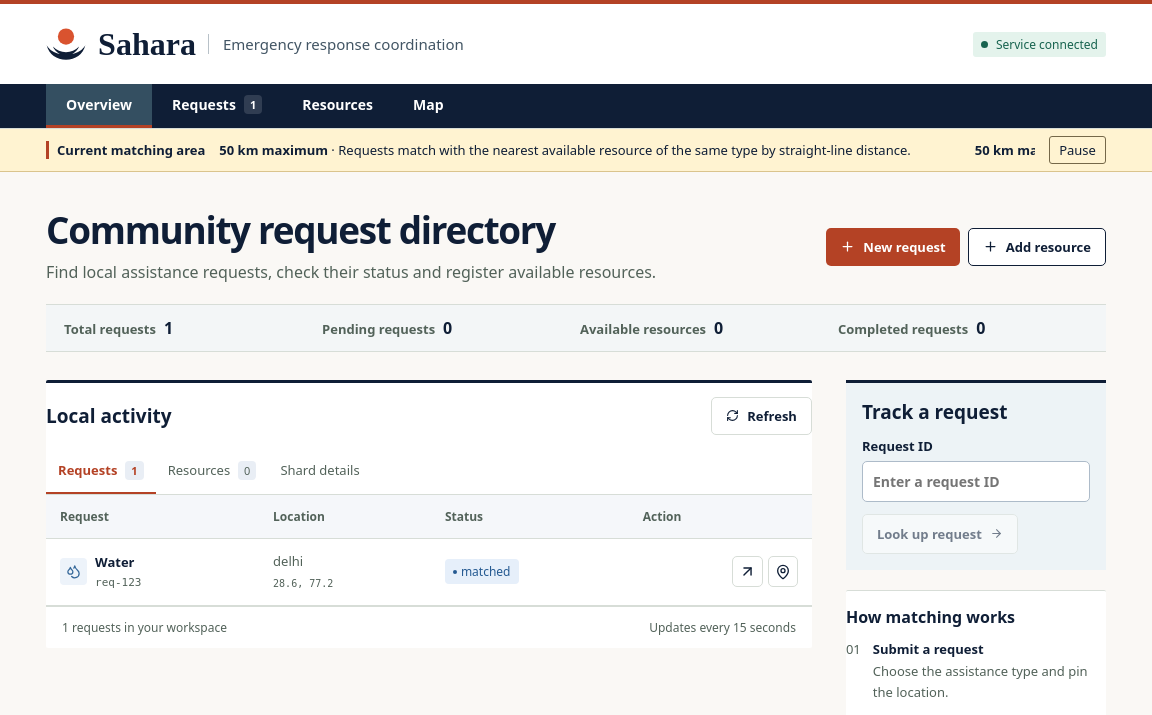
Scenario: shows the assigned straight-line distance 12345
Click the button named "View request req-123" at (747, 572), box [732,556,763,587]
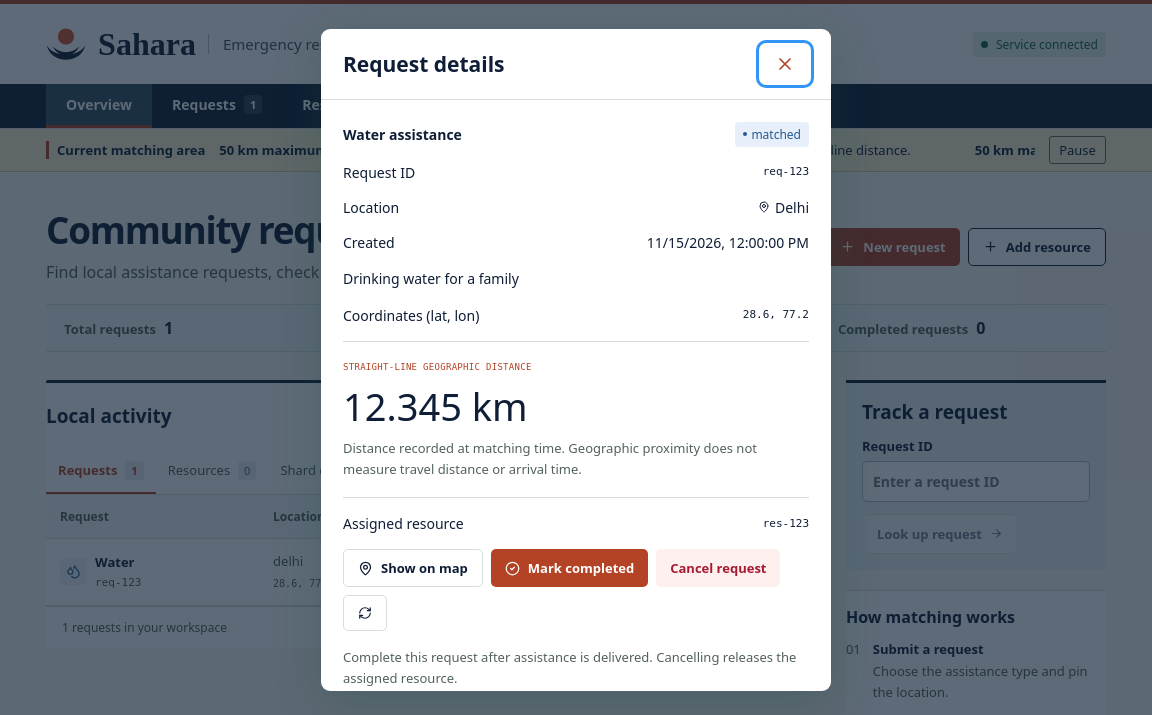
Check: the text "12.345 km" is shown, box [343,380,528,432]
Check: the text "28.6, 77.2" is shown, box [743,307,809,324]
Check: the text "STRAIGHT-LINE GEOGRAPHIC DISTANCE" is shown, box [343,362,532,372]
